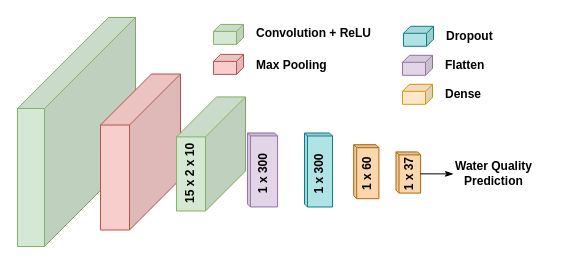
Image size: 570x264. Some labels were removed from this diagram. Each missing label, with the box of its shape:
17 x 4 x 20: (100, 73, 180, 230)
35 x 9 x 20: (16, 16, 136, 246)
